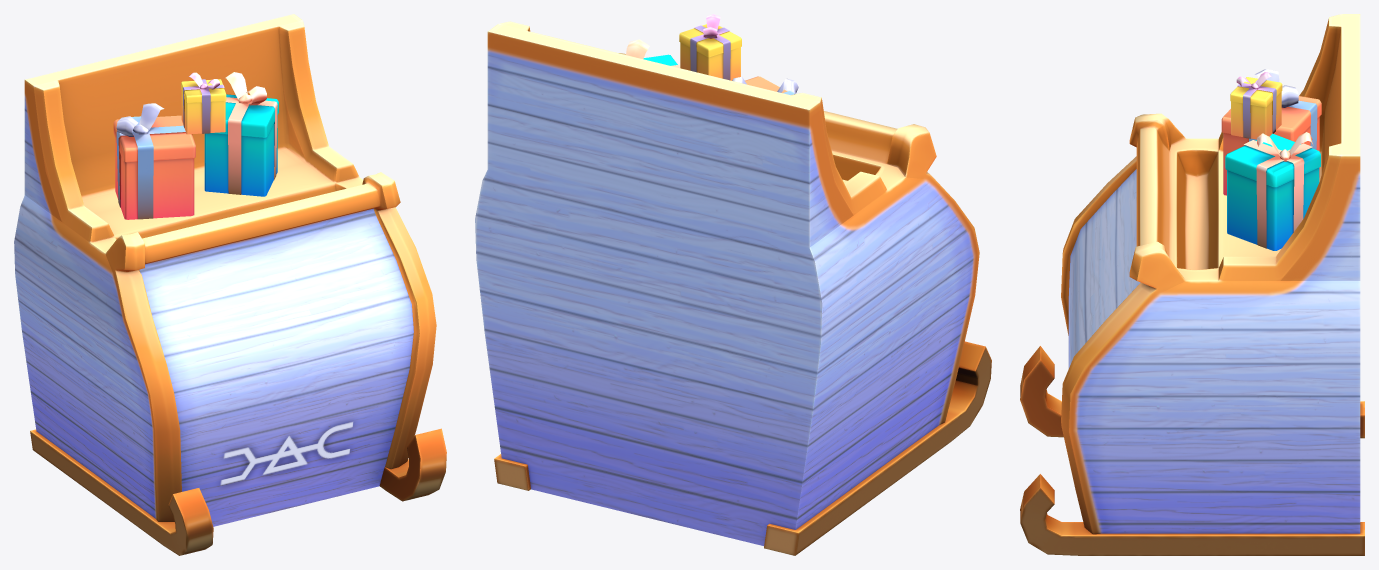
File: obj_terminal.gltf
3 views of the same model, side by side, from view 1: azimuth 30°, elevation 25°; view 2: azimuth 150°, elevation 25°; view 3: azimuth 270°, elevation 25° (orthographic). The views are drawn at different scales.
Parts seen in each view (by area): view 1: obj_terminal; view 2: obj_terminal; view 3: obj_terminal.
Part boxes in pixels (x1,y1,x2,y2): obj_terminal: (14,14,446,555); obj_terminal: (475,14,991,555); obj_terminal: (1020,14,1364,555).
Size of what is drawn, in the model's own units: 1.3 by 1.64 by 1.24.
Materials: 2 (2 with a texture image).
